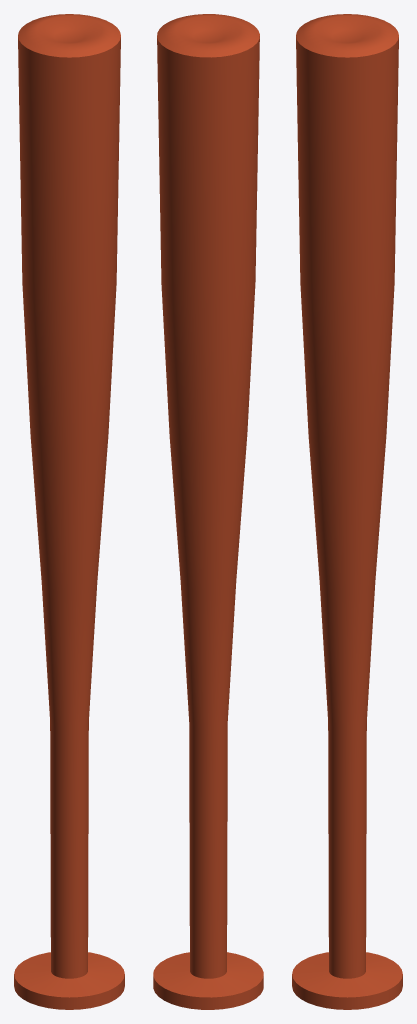
Rendered from bat.fbx.
The picture shows the model from 3 angles, left to right: view 1: azimuth 90°, elevation 25°; view 2: azimuth 150°, elevation 25°; view 3: azimuth 270°, elevation 25°; orthographic projection.
Parts seen in each view (by area): view 1: Cylinder; view 2: Cylinder; view 3: Cylinder.
Part boxes in pixels (box(x1,y1,x2,y2)): Cylinder: box(14, 14, 124, 1009); Cylinder: box(153, 14, 263, 1009); Cylinder: box(292, 14, 402, 1009).
Bounding box in the file's own units: 0.4223 × 4.02 × 0.4223.
